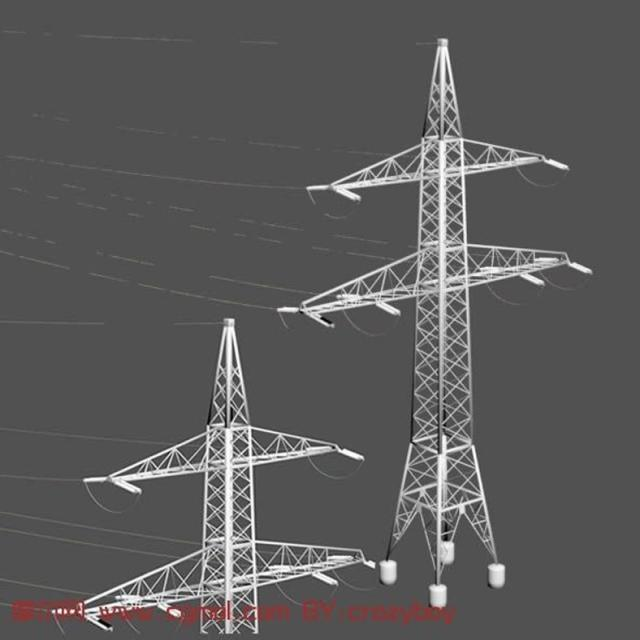non-critical vegetation: (348, 74, 538, 598), (73, 330, 345, 610)
